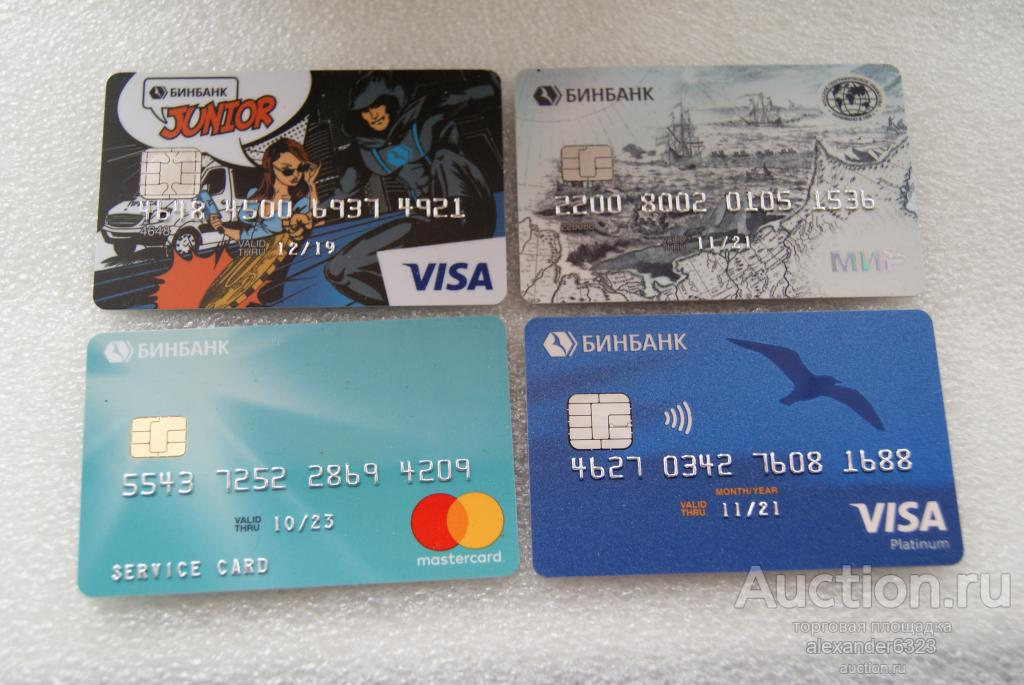card: (75, 315, 519, 601), (524, 309, 965, 577), (91, 67, 510, 311), (515, 63, 927, 303)
